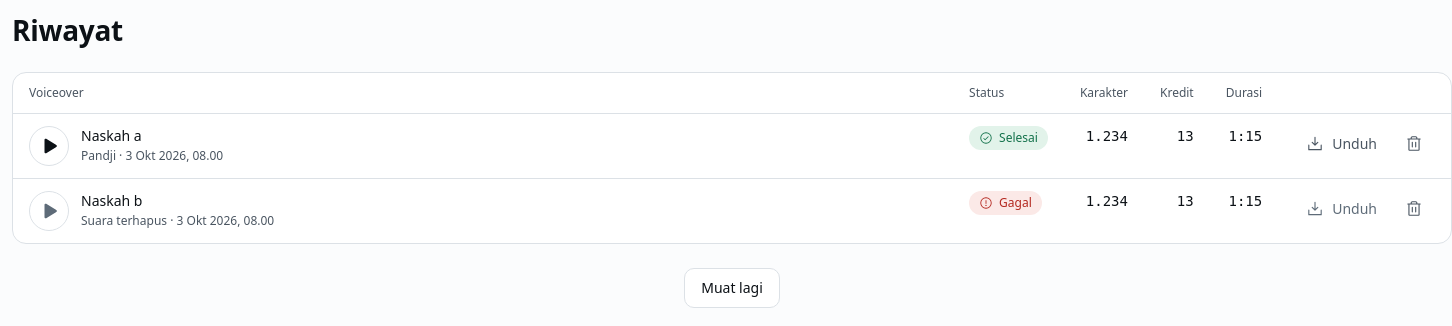
HistoryPage › lists voiceovers and pages with the opaque nextBefore cursor
The width and height of the screenshot is (1452, 326).
expect the text "Suara terhapus · 3 Okt 2026, 08.00" is shown: met, box [81, 212, 274, 229]
Click the button "Muat lagi" at (732, 288), box [684, 268, 780, 308]
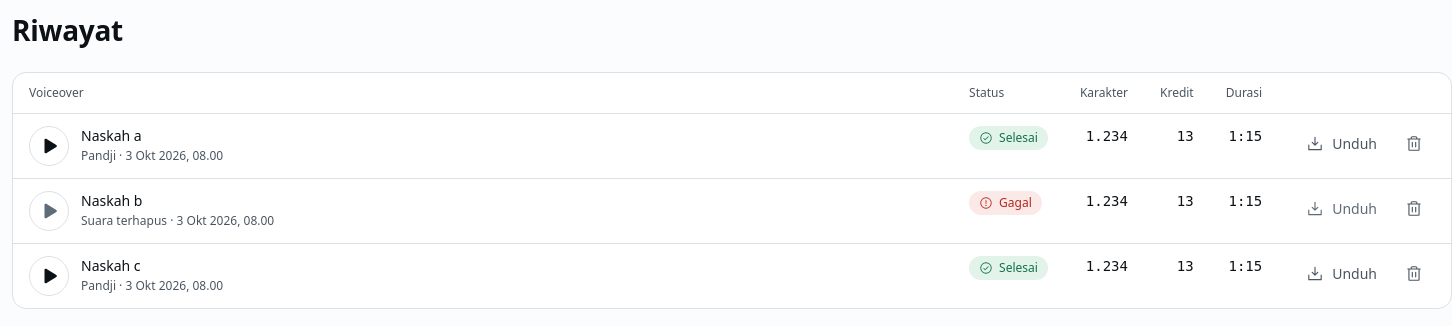
expect the link "Naskah c" is shown: met, box [81, 256, 140, 275]
expect the number of rows with test id "history-row" is 3: met, box [13, 114, 1451, 178]; [13, 178, 1451, 244]; [13, 244, 1451, 308]
expect the button "Muat lagi" is gone: met
